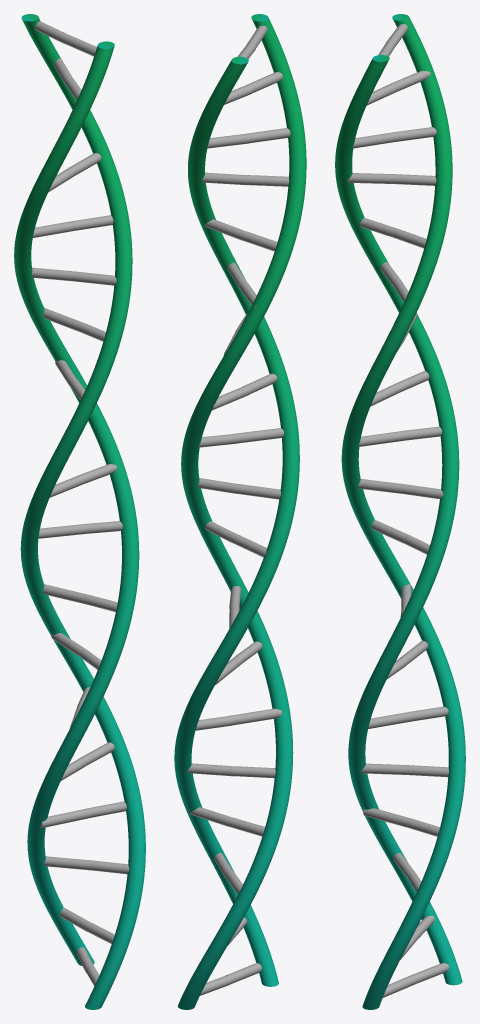
File: GENES.fbx
3 renders of one model, left to right at view 1: azimuth 30°, elevation 25°; view 2: azimuth 150°, elevation 25°; view 3: azimuth 330°, elevation 25°, orthographic.
Parts seen in each view (by area): view 1: Backbone_2, Backbone_1, pCylinder3, pCylinder8, pCylinder1, pCylinder31, pCylinder32, pCylinder7, pCylinder13, pCylinder14, pCylinder12, pCylinder2 (+10 smaller); view 2: Backbone_1, Backbone_2, pCylinder5, pCylinder22, pCylinder10, pCylinder9, pCylinder33, pCylinder15, pCylinder16, pCylinder4, pCylinder34, pCylinder8 (+11 smaller); view 3: Backbone_2, Backbone_1, pCylinder10, pCylinder3, pCylinder15, pCylinder9, pCylinder22, pCylinder33, pCylinder5, pCylinder4, pCylinder16, pCylinder34 (+11 smaller).
Part boxes in pixels (x1,y1,x2,y2): Backbone_2: [20, 14, 145, 1009]; Backbone_1: [14, 41, 139, 965]; pCylinder3: [40, 808, 90, 828]; pCylinder8: [38, 524, 86, 538]; pCylinder1: [44, 856, 92, 870]; pCylinder31: [71, 271, 116, 285]; pCylinder32: [70, 215, 113, 231]; pCylinder7: [43, 584, 84, 603]; pCylinder13: [31, 267, 72, 280]; pCylinder14: [32, 221, 72, 237]; pCylinder12: [43, 308, 82, 331]; pCylinder2: [91, 860, 129, 874]; Backbone_1: [178, 14, 306, 1009]; Backbone_2: [174, 56, 299, 986]; pCylinder5: [229, 708, 282, 725]; pCylinder22: [187, 763, 234, 776]; pCylinder10: [236, 428, 284, 443]; pCylinder9: [236, 484, 280, 499]; pCylinder33: [202, 172, 247, 185]; pCylinder15: [247, 175, 289, 186]; pCylinder16: [247, 128, 290, 143]; pCylinder4: [234, 766, 275, 778]; pCylinder34: [207, 133, 249, 148]; pCylinder8: [229, 533, 266, 557]; Backbone_2: [341, 14, 465, 1009]; Backbone_1: [335, 55, 462, 985]; pCylinder10: [358, 431, 405, 446]; pCylinder3: [363, 808, 410, 827]; pCylinder15: [347, 173, 393, 183]; pCylinder9: [358, 479, 403, 493]; pCylinder22: [405, 765, 448, 777]; pCylinder33: [393, 174, 436, 185]; pCylinder5: [368, 712, 411, 728]; pCylinder4: [353, 763, 405, 774]; pCylinder16: [352, 132, 395, 148]; pCylinder34: [393, 127, 436, 141].
Bounding box in the file's own units: 207 × 1638 × 183.
